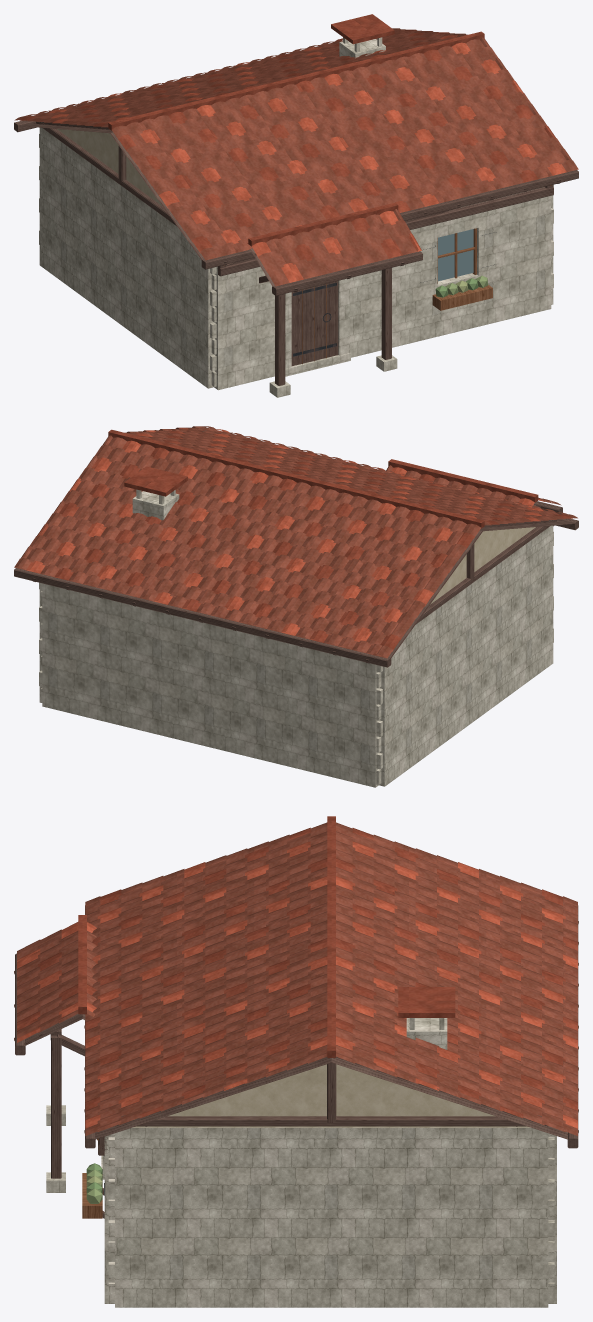
Rendered from B24_vivienda.glb.
3 renders of one model, top to bottom at view 1: azimuth 30°, elevation 25°; view 2: azimuth 150°, elevation 25°; view 3: azimuth 270°, elevation 25°, orthographic. The views are drawn at different scales.
Visible parts, largest first — view 1: AUR034_B24_clay_tiles, AUR034_B24_lower_masonry, AUR034_B24_porch_clay_tiles, AUR034_B24_entry_leaf0, AUR034_B24_ridge, AUR034_B24_fascia-1, AUR034_B24_sill, AUR034_B24_gable-1, AUR034_B24_porch_fascia-1, AUR034_B24_window0_glazing, AUR034_B24_gable_tie-1, AUR034_B24_cowl (+10 smaller); view 2: AUR034_B24_clay_tiles, AUR034_B24_lower_masonry, AUR034_B24_fascia1, AUR034_B24_ridge, AUR034_B24_gable-1, AUR034_B24_gable_tie-1, AUR034_B24_cowl, AUR034_B24_porch_ridge, AUR034_B24_dressed_corner_stones, AUR034_B24_porch_clay_tiles, AUR034_B24_roof_sheathing, AUR034_B24_chimney; view 3: AUR034_B24_clay_tiles, AUR034_B24_lower_masonry, AUR034_B24_gable1, AUR034_B24_porch_clay_tiles, AUR034_B24_gable_tie1, AUR034_B24_roof_sheathing, AUR034_B24_dressed_corner_stones, AUR034_B24_ridge, AUR034_B24_cowl, AUR034_B24_porch_post1, AUR034_B24_chimney, AUR034_B24_porch_ridge.
Boxes of the visible parts, x1,y1,x2,y2 form: AUR034_B24_clay_tiles: (14, 28, 578, 260); AUR034_B24_lower_masonry: (39, 127, 553, 390); AUR034_B24_porch_clay_tiles: (247, 209, 421, 286); AUR034_B24_entry_leaf0: (291, 281, 338, 366); AUR034_B24_ridge: (108, 31, 484, 130); AUR034_B24_fascia-1: (201, 170, 578, 269); AUR034_B24_sill: (216, 187, 553, 276); AUR034_B24_gable-1: (57, 129, 161, 205); AUR034_B24_porch_fascia-1: (272, 251, 422, 295); AUR034_B24_window0_glazing: (438, 229, 473, 281); AUR034_B24_gable_tie-1: (36, 122, 208, 240); AUR034_B24_cowl: (331, 14, 394, 44); AUR034_B24_clay_tiles: (14, 426, 577, 658); AUR034_B24_lower_masonry: (39, 525, 553, 787); AUR034_B24_fascia1: (14, 568, 391, 667); AUR034_B24_ridge: (108, 429, 484, 528); AUR034_B24_gable-1: (430, 527, 535, 604); AUR034_B24_gable_tie-1: (384, 520, 556, 638); AUR034_B24_cowl: (124, 466, 187, 496); AUR034_B24_porch_ridge: (388, 459, 538, 502); AUR034_B24_dressed_corner_stones: (39, 531, 553, 784); AUR034_B24_porch_clay_tiles: (386, 465, 561, 507); AUR034_B24_roof_sheathing: (388, 519, 574, 657); AUR034_B24_chimney: (132, 491, 179, 520); AUR034_B24_clay_tiles: (85, 822, 577, 1135); AUR034_B24_lower_masonry: (104, 1127, 556, 1307); AUR034_B24_gable1: (133, 1064, 530, 1127); AUR034_B24_porch_clay_tiles: (17, 922, 96, 1042); AUR034_B24_gable_tie1: (115, 1116, 547, 1126); AUR034_B24_roof_sheathing: (95, 1057, 567, 1139); AUR034_B24_dressed_corner_stones: (108, 1137, 554, 1301); AUR034_B24_ridge: (327, 816, 335, 1057); AUR034_B24_cowl: (398, 987, 455, 1017); AUR034_B24_porch_post1: (51, 1035, 61, 1178); AUR034_B24_chimney: (406, 1018, 447, 1049); AUR034_B24_porch_ridge: (78, 915, 86, 1014).
Bounding box in the file's own units: 8.96 × 4.78 × 9.13.
12 materials, 8 textured.
